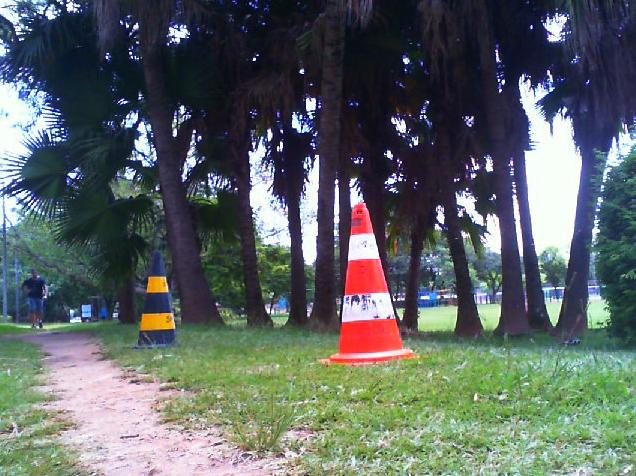0 cone: (320, 203, 419, 367), (134, 250, 185, 350)
